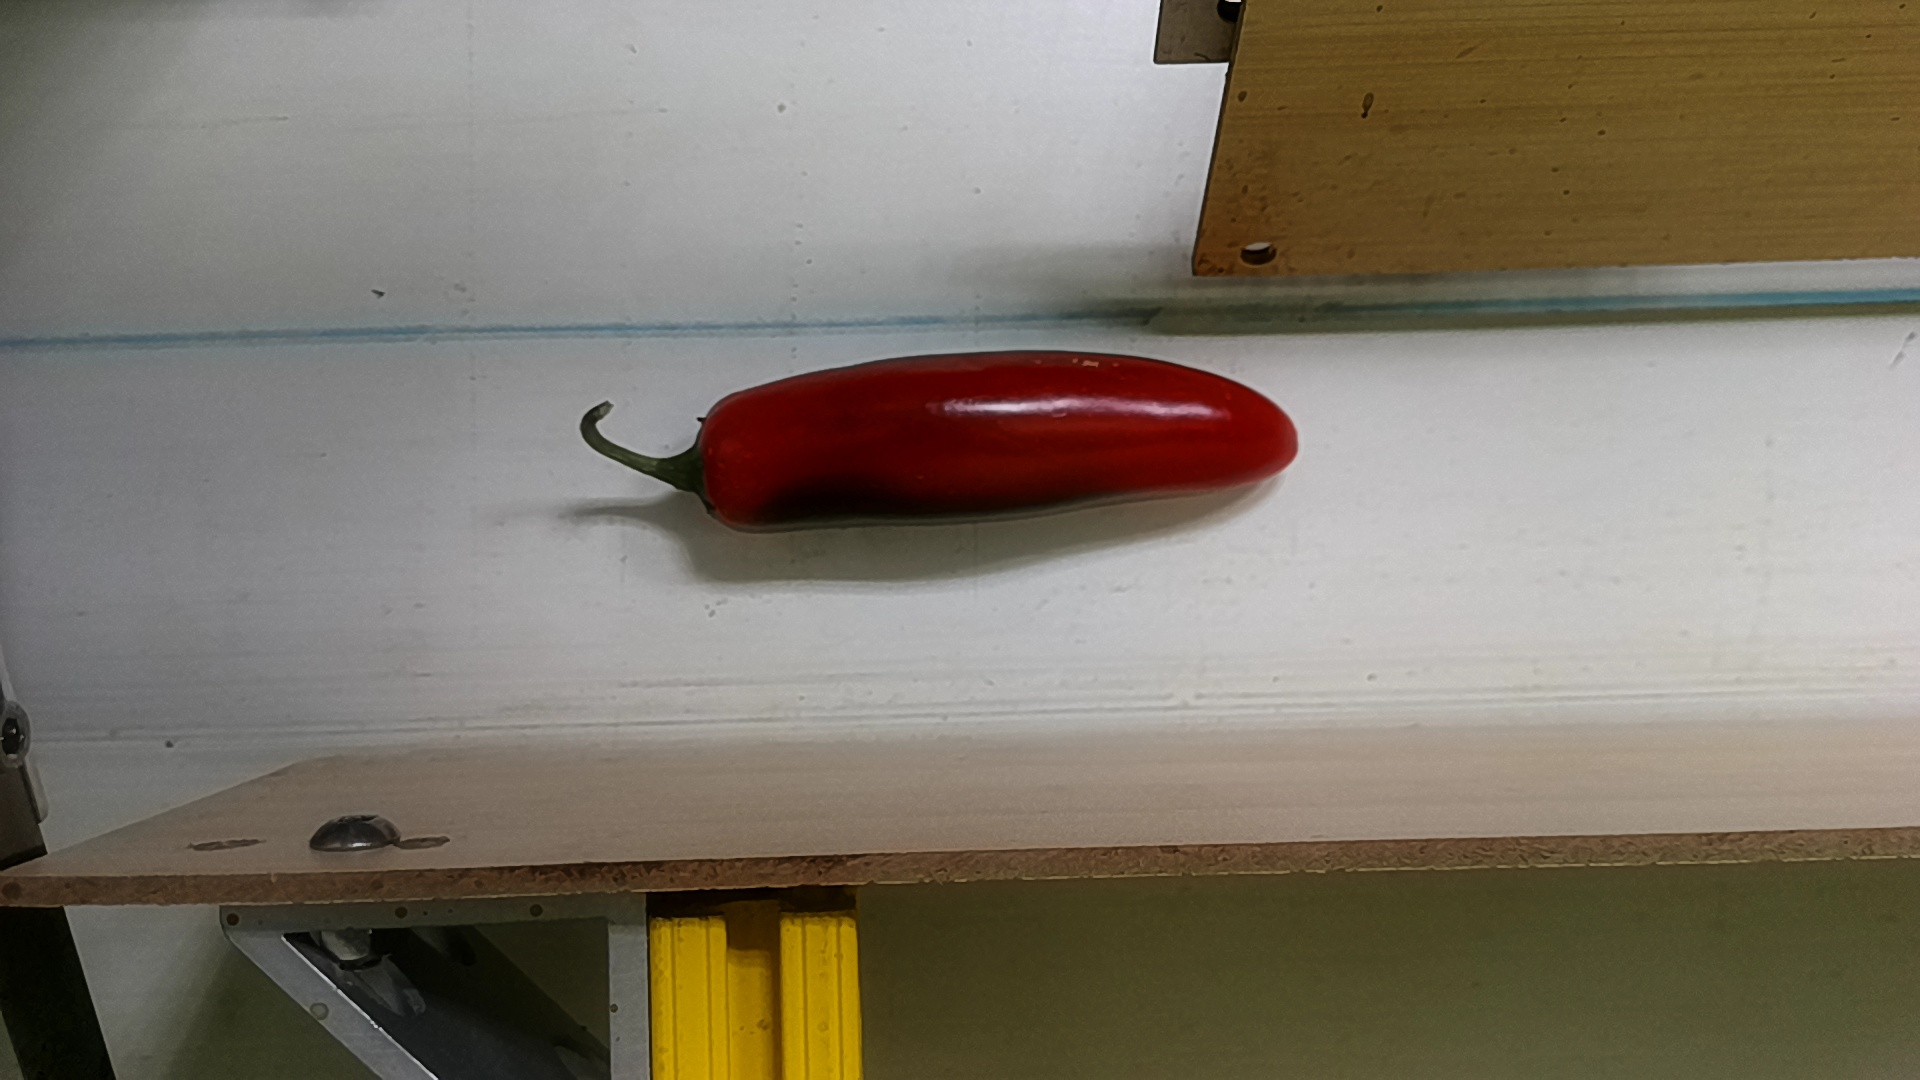Cut Point: (670, 392, 760, 539)
